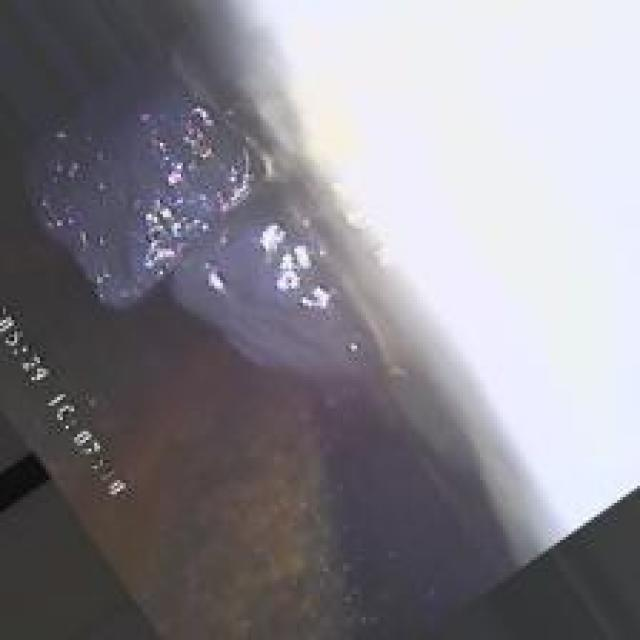stone: (20, 77, 380, 412)
